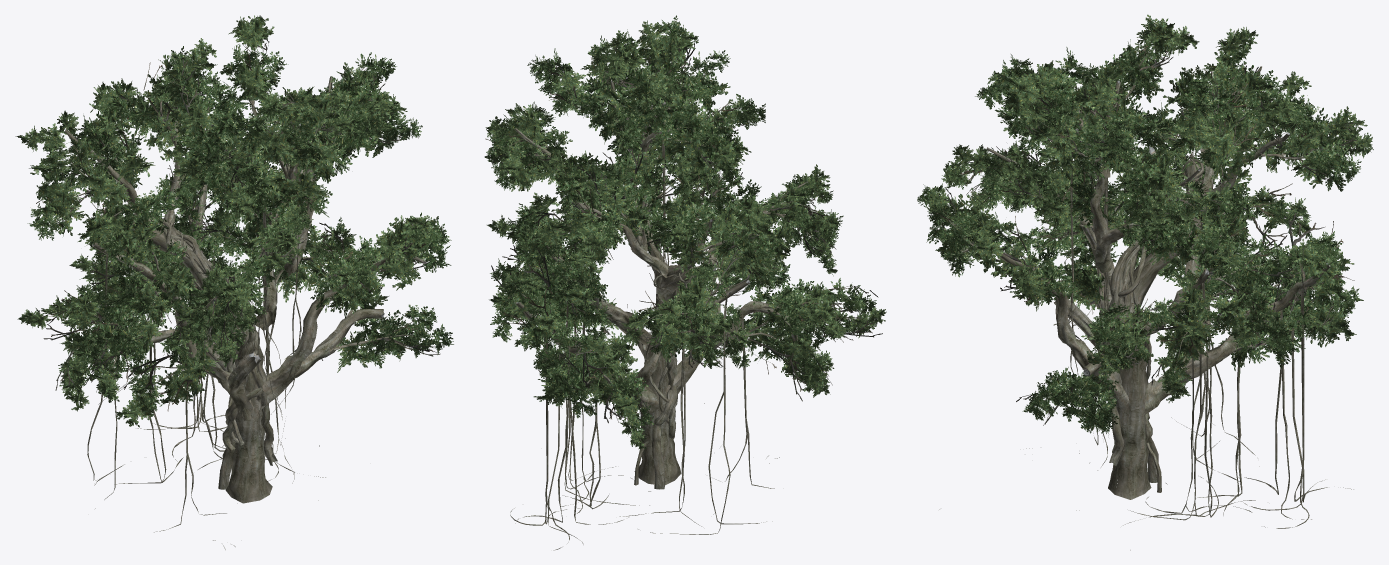
The model's file is home_fig.glb.
3 views of the same model, side by side, from view 1: azimuth 30°, elevation 25°; view 2: azimuth 150°, elevation 25°; view 3: azimuth 270°, elevation 25° (orthographic). The views are drawn at different scales.
Visible parts, largest first — view 1: ChineseBanyan_Med_BanyanTreeBark_0; view 2: ChineseBanyan_Med_BanyanTreeBark_0; view 3: ChineseBanyan_Med_BanyanTreeBark_0.
Boxes of the visible parts, box(x1,y1,x2,y2) form: ChineseBanyan_Med_BanyanTreeBark_0: box(15, 15, 453, 549); ChineseBanyan_Med_BanyanTreeBark_0: box(484, 15, 886, 550); ChineseBanyan_Med_BanyanTreeBark_0: box(917, 14, 1373, 550).
Bounding box in the file's own units: 14.95 × 17 × 14.64.
6 materials, 6 textured.
